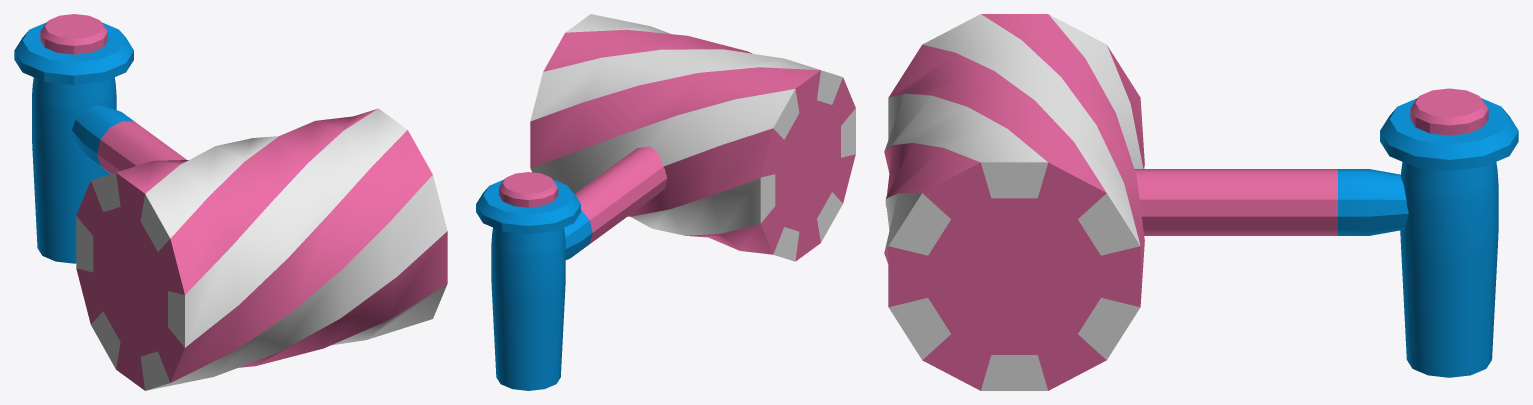
Rendered from hammer.fbx.
The picture shows the model from 3 angles, left to right: view 1: azimuth 30°, elevation 25°; view 2: azimuth 150°, elevation 25°; view 3: azimuth 270°, elevation 25°; orthographic projection. The views are drawn at different scales.
Visible parts, largest first — view 1: Cylinder.008; view 2: Cylinder.008; view 3: Cylinder.008.
Boxes of the visible parts, x1=… form: Cylinder.008: x1=14, y1=14, x2=447, y2=390; Cylinder.008: x1=476, y1=14, x2=855, y2=390; Cylinder.008: x1=884, y1=14, x2=1518, y2=390.
Size of the model in its own units: 182 by 157 by 328.
